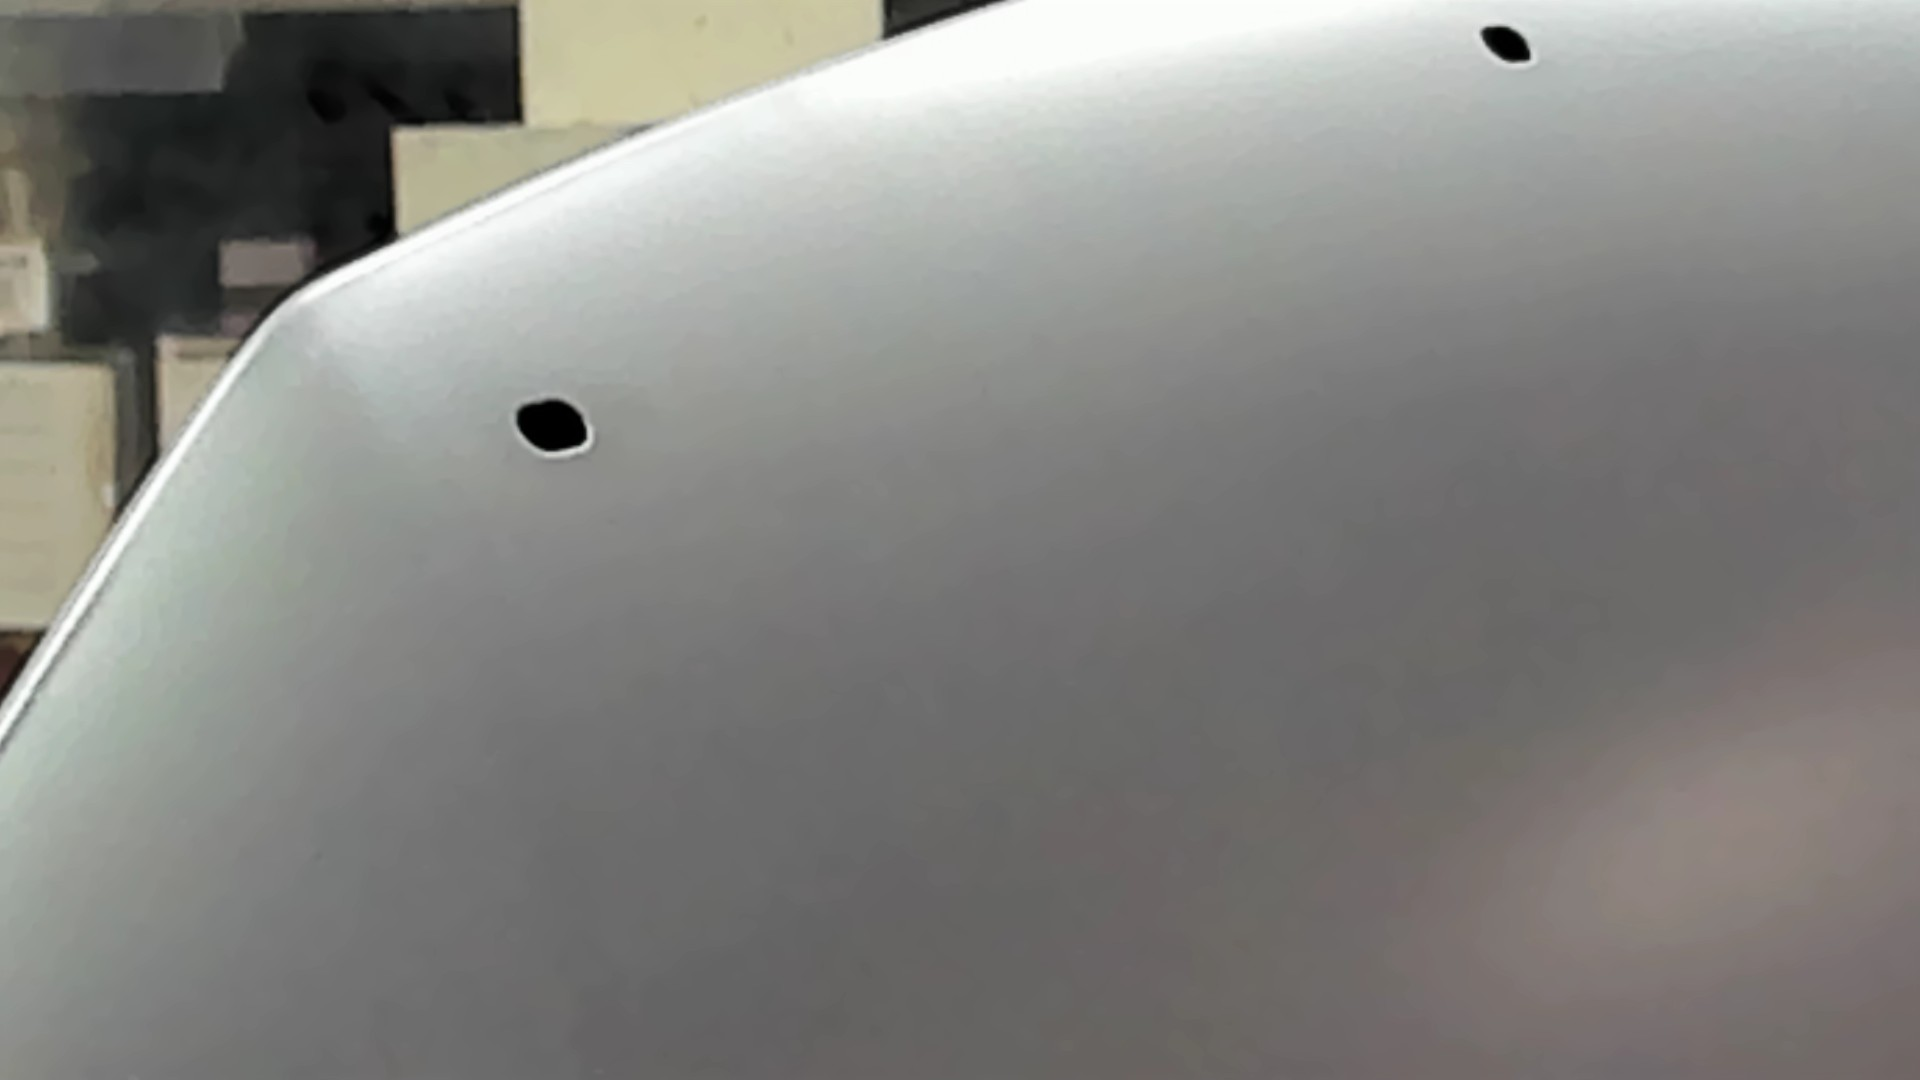amorfo: (510, 392, 597, 462), (1476, 22, 1538, 69)
capo: (719, 156, 1920, 1080)
